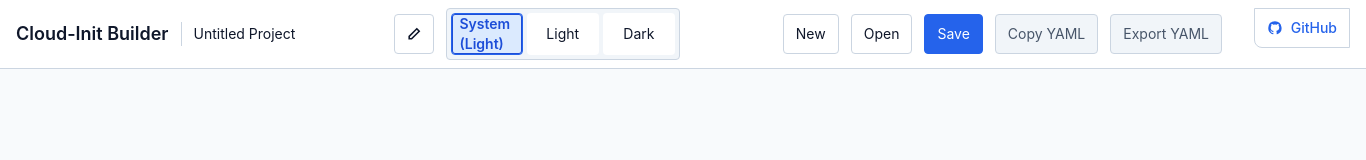
it: TopBar project rename › cancels on Escape without dirtying or changing updatedAt
The image size is (1366, 160).
Click the button named "Rename project".
click(414, 34)  # box top-left (394, 14), bottom-right (434, 54)
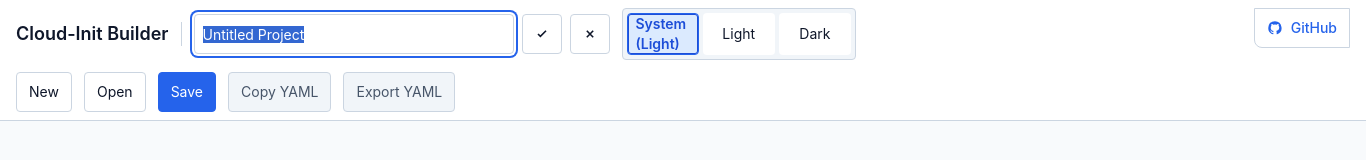
Replace the text in the field named "Project name" with "Demo Server" at {"x": 354, "y": 34}, box top-left (194, 14), bottom-right (514, 54)
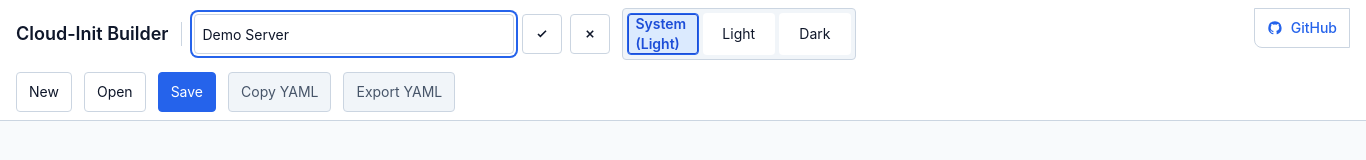
Press Escape
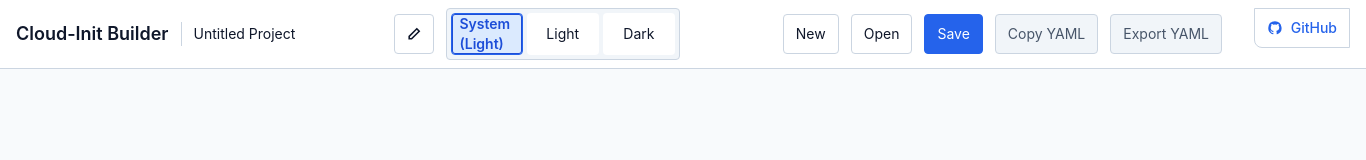
Check: the text "Untitled Project" is shown, box top-left (194, 25), bottom-right (295, 42)
